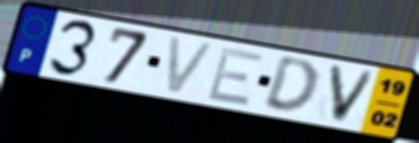3: (43, 18, 100, 79)
7: (105, 24, 152, 86)
D: (260, 56, 320, 117)
E: (204, 46, 267, 109)
V: (326, 62, 380, 127), (164, 34, 219, 97)
